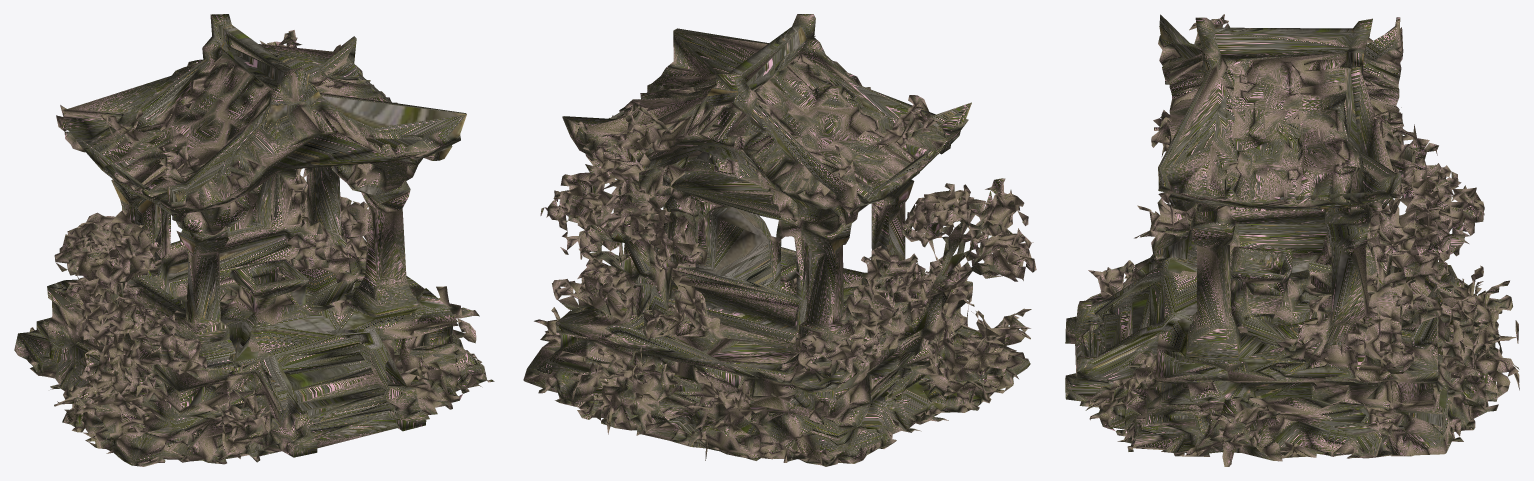
File: schrein.glb
3 renders of one model, left to right at view 1: azimuth 30°, elevation 25°; view 2: azimuth 150°, elevation 25°; view 3: azimuth 270°, elevation 25°, orthographic. The views are drawn at different scales.
Bounding box in the file's own units: 1.88 × 1.41 × 1.66.
Materials: 1 (1 with a texture image).
